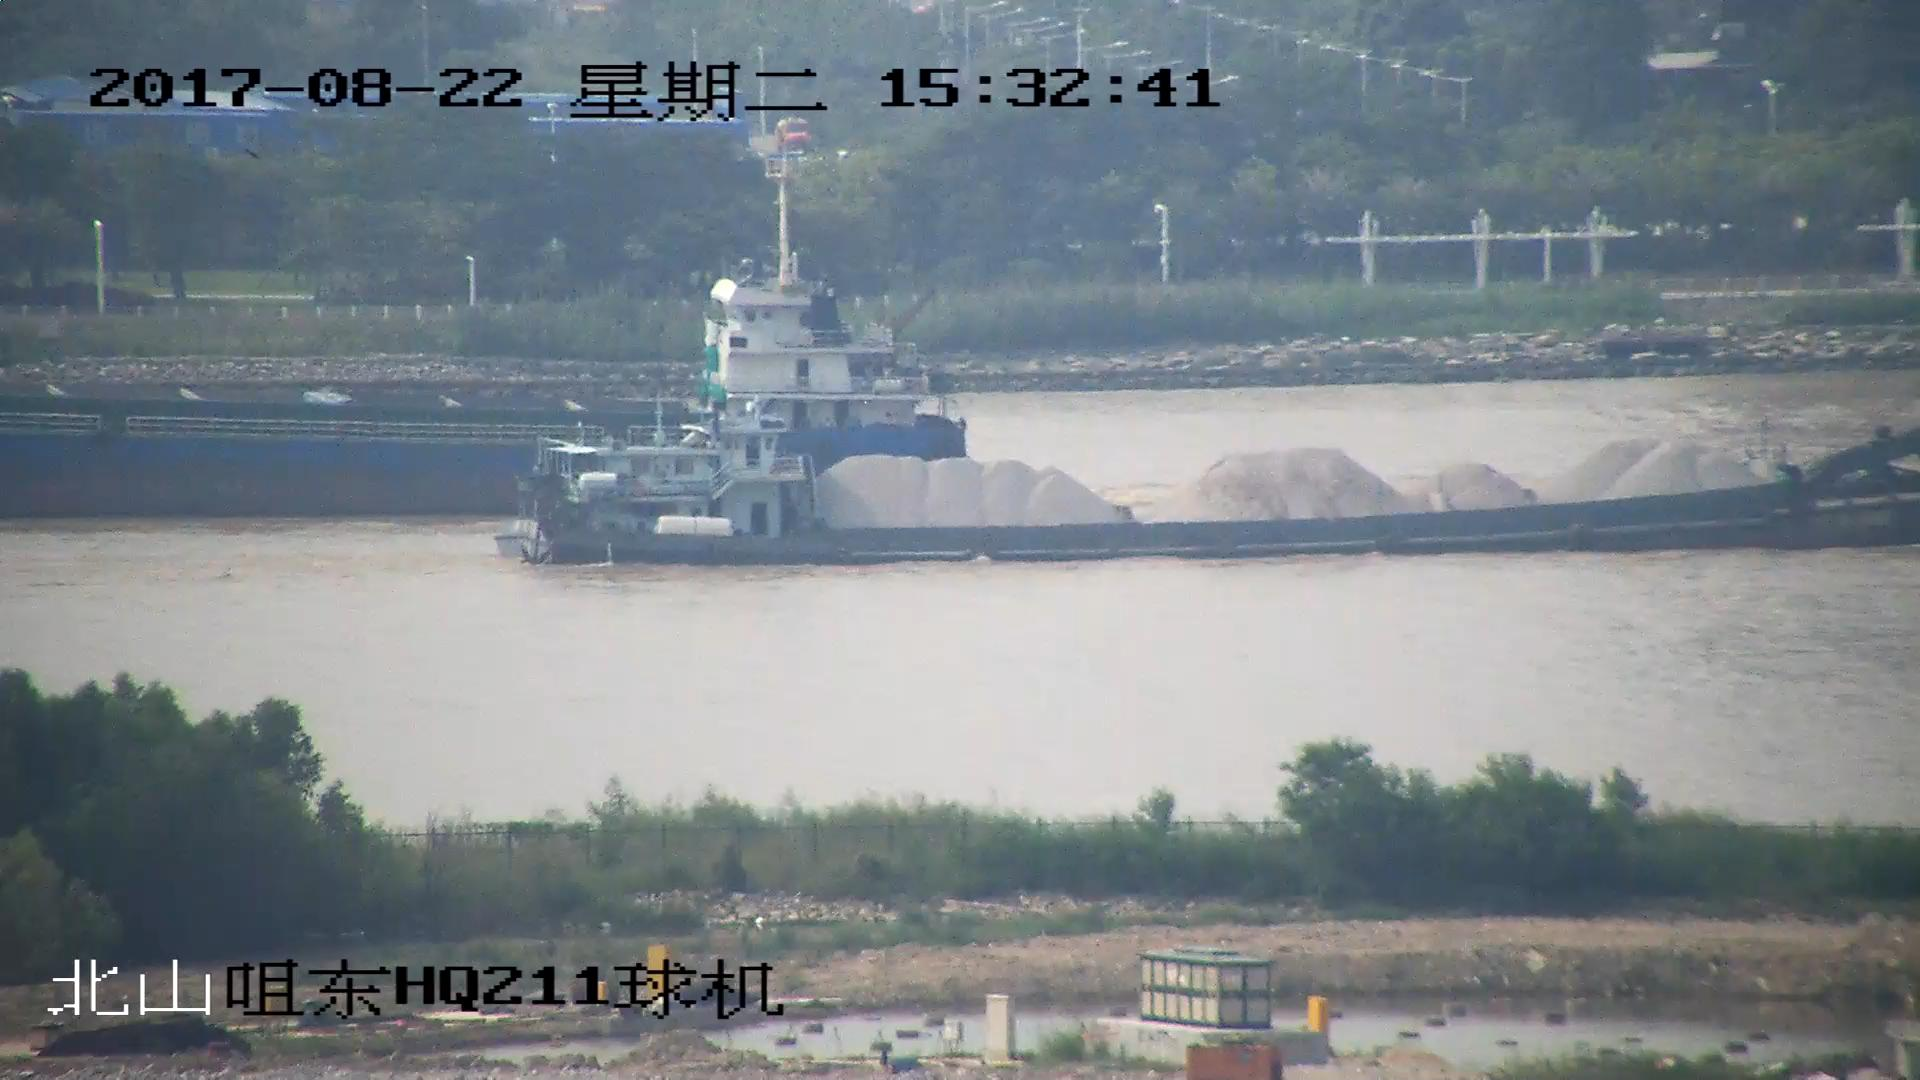general cargo ship: (1, 156, 972, 507)
ore carrier: (504, 410, 1920, 568)
